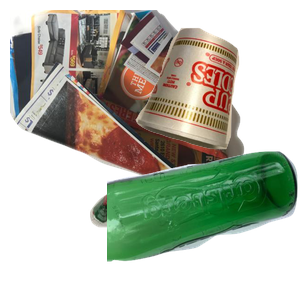glass: (107, 149, 300, 300)
paper: (10, 10, 250, 190)
plastic: (88, 182, 242, 300)
trash: (133, 25, 300, 167)
